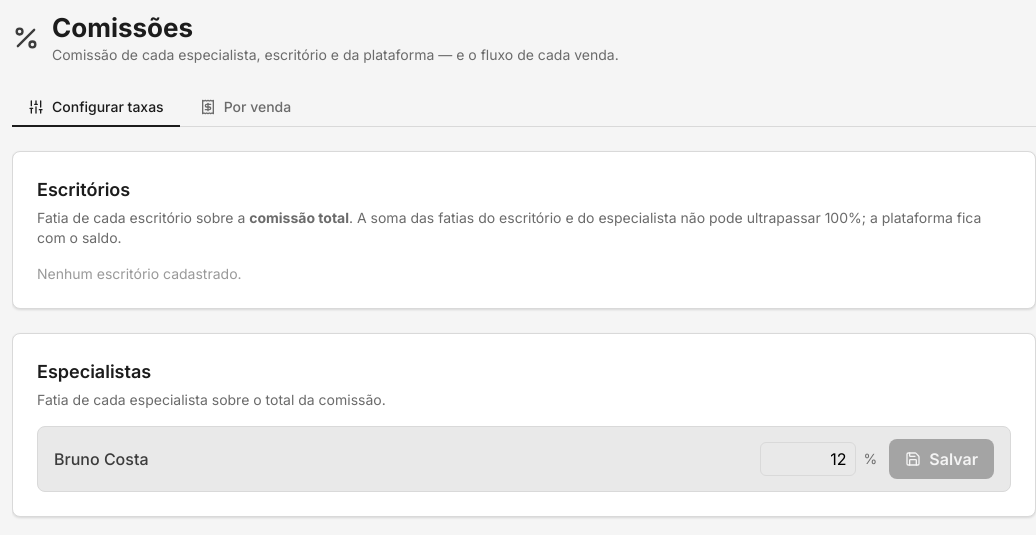
Test case: CommissionsPage › mostra a mensagem de precisão sem salvar uma comissão inválida
Replace the text in the field named "Bruno Costa" with "12.345" at (808, 458), box [760,442,856,476]
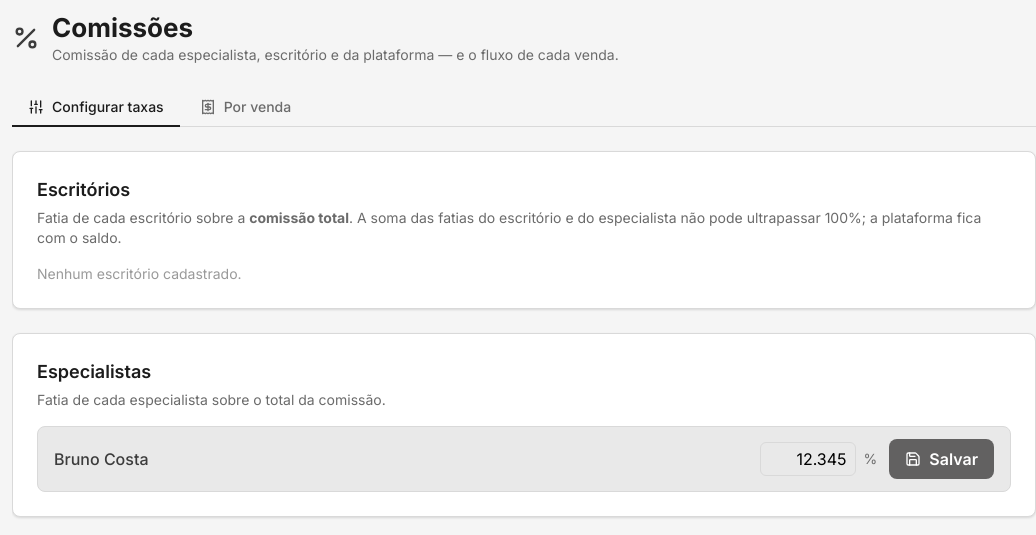
Click the button "Salvar" at (942, 458), box [889,438,994,478]
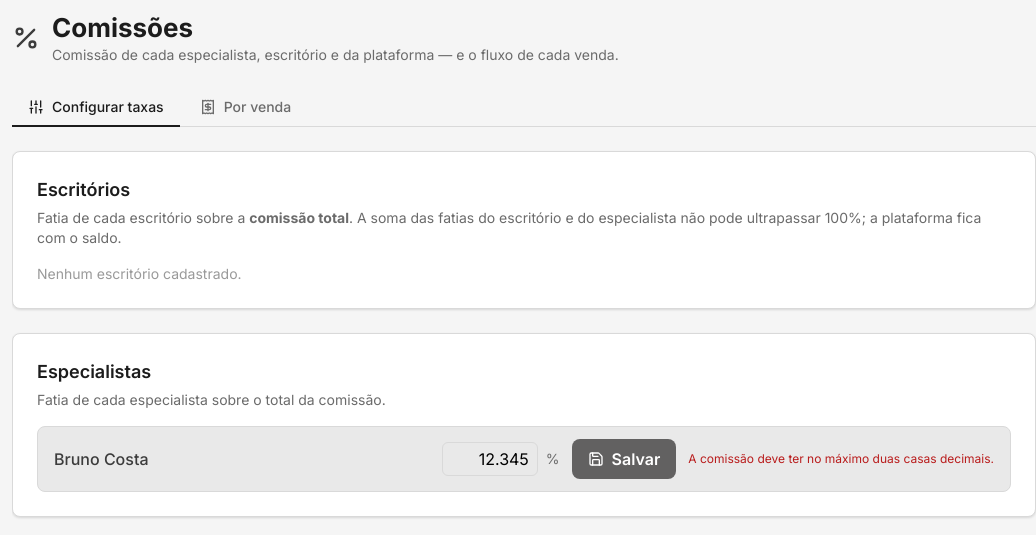
Check: the text "A comissão deve ter no máximo duas casas decimais." is shown, box [688,450,994,466]
